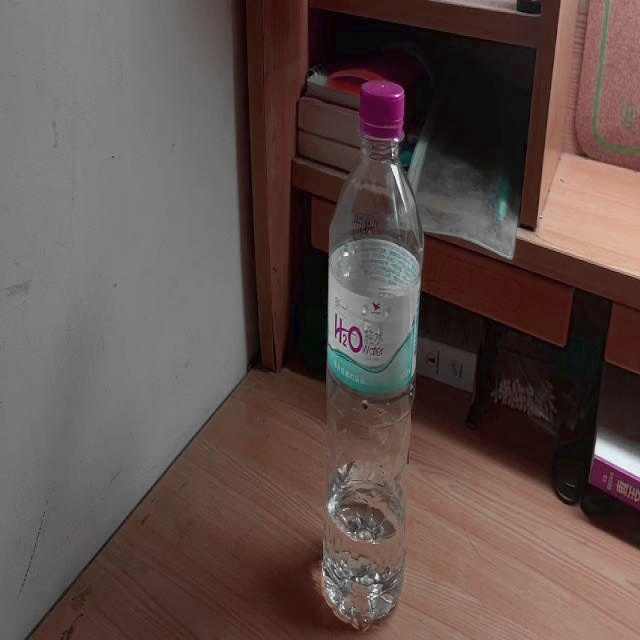Water: (321, 77, 424, 630)
